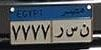7: (30, 23, 41, 40), (11, 23, 21, 41), (41, 23, 51, 40), (22, 24, 30, 41)
noon: (79, 22, 90, 39)
raa: (54, 25, 65, 41)
seen: (65, 24, 78, 39)
